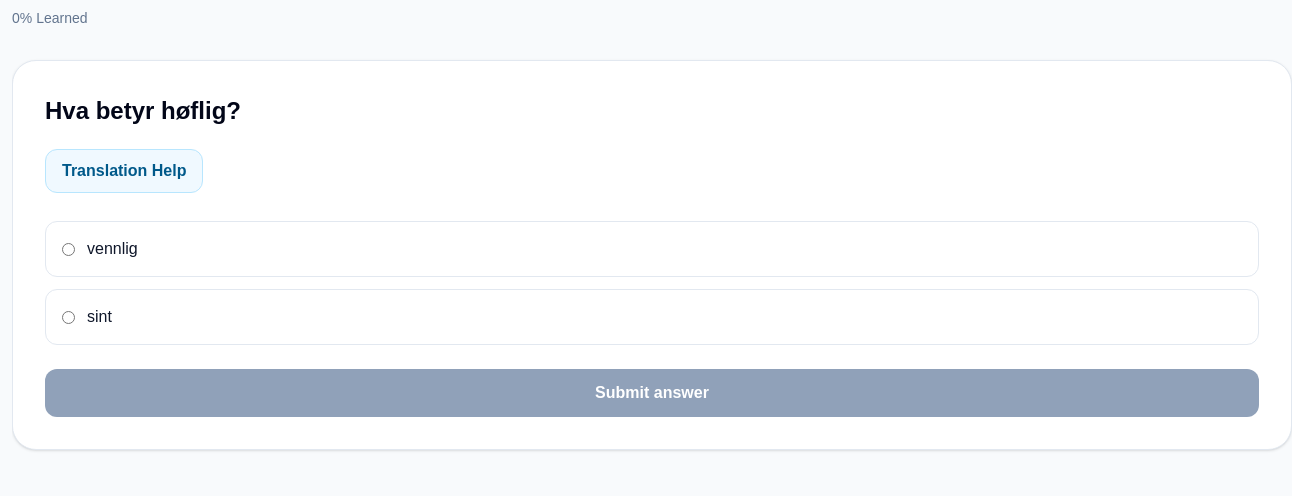
Scenario: Quiz Learned Milestone › does not announce streak 2 → 0 (incorrect, Translation Help: false)
Click the radio button labelled "sint": [68, 317] box [62,310,75,324]
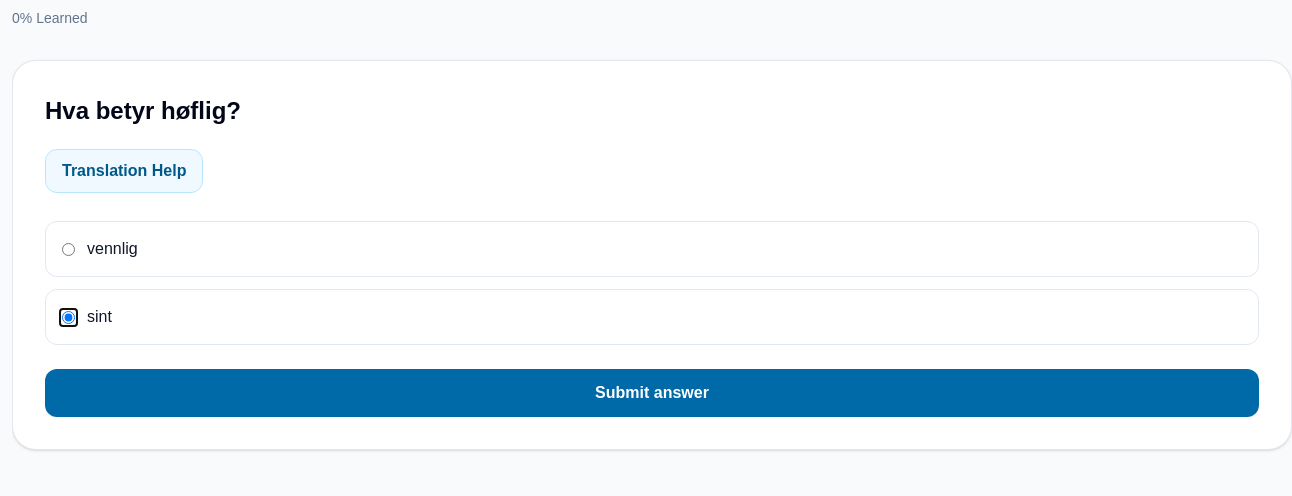
Click the button "Submit answer": [652, 393] box [45,369,1259,417]
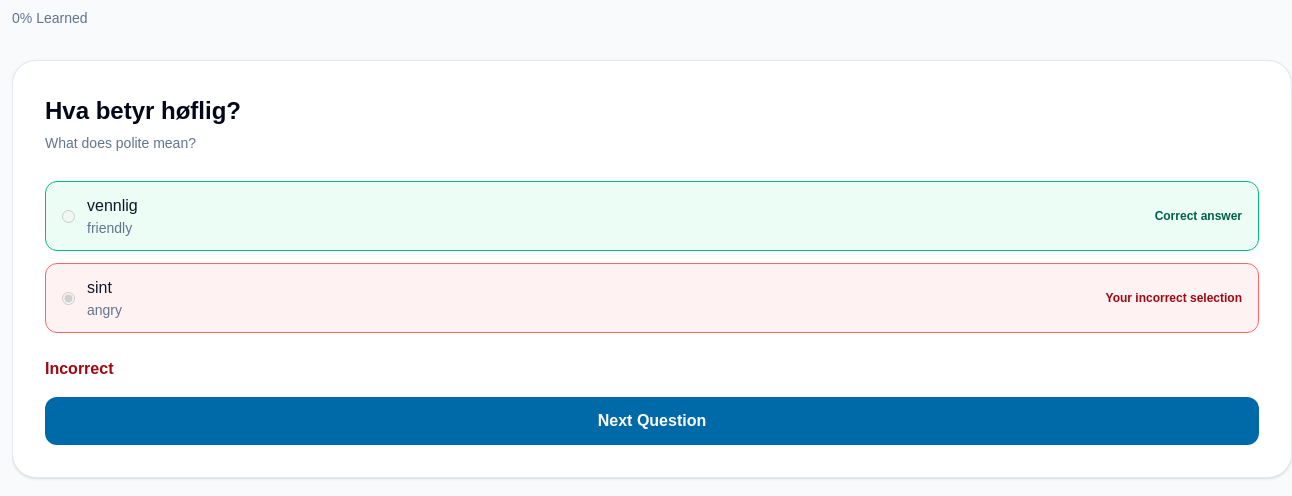
expect the button "Next Question" is shown: met, box [45,397,1259,445]
